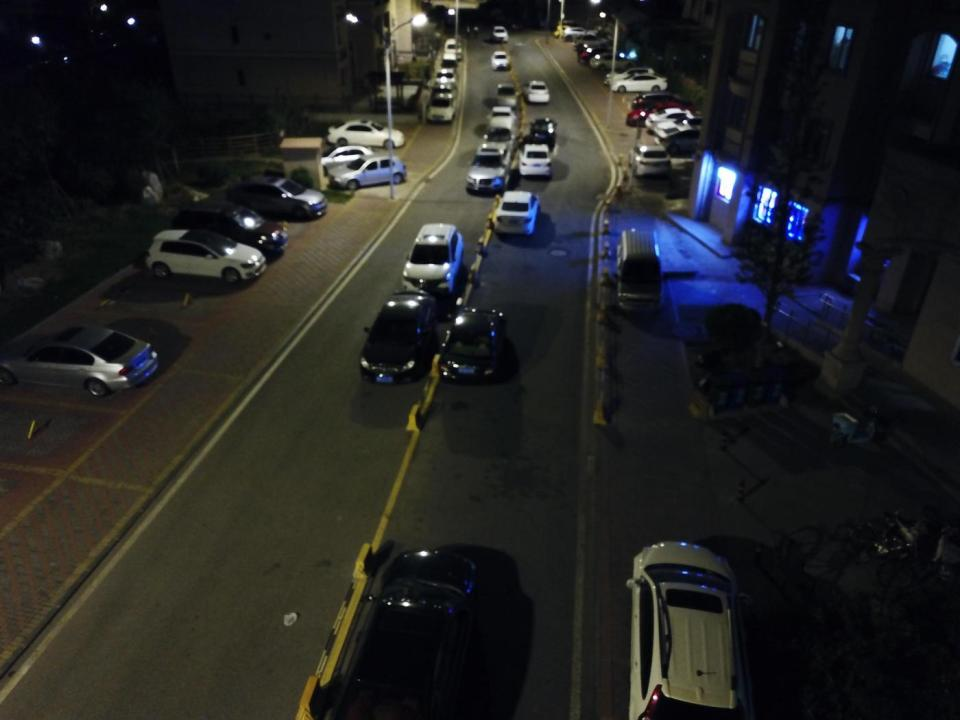car: (324, 544, 482, 720), (624, 537, 760, 720), (0, 321, 159, 396), (358, 291, 436, 383), (144, 227, 264, 285), (172, 202, 284, 257), (227, 170, 325, 224), (443, 304, 508, 379), (403, 221, 462, 300), (464, 138, 515, 196), (331, 154, 407, 192), (324, 119, 407, 150), (492, 187, 543, 237), (646, 106, 710, 138), (630, 90, 697, 119), (627, 102, 698, 128), (515, 140, 560, 181), (315, 142, 380, 170), (632, 138, 672, 180), (657, 126, 716, 154), (658, 113, 713, 143), (600, 67, 656, 89), (608, 74, 669, 94), (603, 65, 652, 87), (530, 116, 560, 151), (426, 88, 456, 121), (576, 40, 624, 60), (486, 114, 513, 148), (590, 52, 638, 70), (522, 78, 550, 105), (495, 82, 521, 107), (580, 48, 622, 63), (561, 26, 603, 41), (433, 66, 456, 90), (486, 104, 515, 122), (571, 33, 608, 47), (489, 50, 511, 71), (554, 25, 586, 38), (555, 20, 590, 31), (445, 38, 463, 58), (491, 25, 510, 42)
van: (613, 228, 663, 314), (441, 50, 459, 74)
